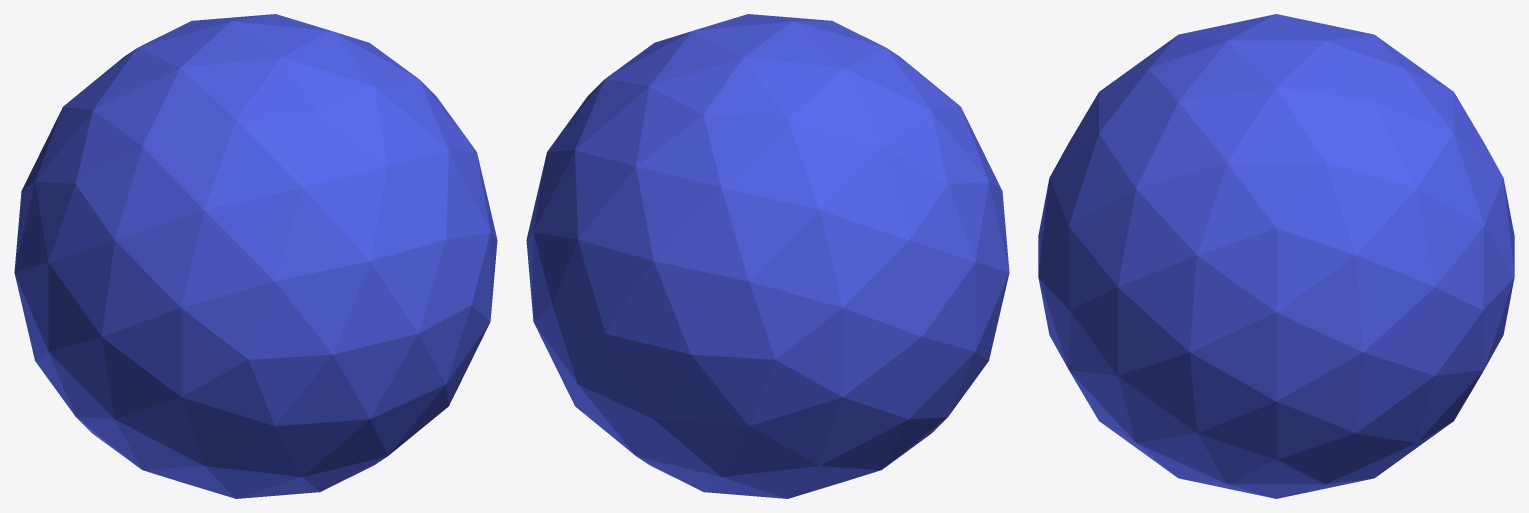
The model's file is planet.glb.
3 views of the same model, side by side, from view 1: azimuth 30°, elevation 25°; view 2: azimuth 150°, elevation 25°; view 3: azimuth 270°, elevation 25° (orthographic).
Parts seen in each view (by area): view 1: Bongo Planet faceted globe; view 2: Bongo Planet faceted globe; view 3: Bongo Planet faceted globe.
Part boxes in pixels (box(x1,y1,x2,y2)): Bongo Planet faceted globe: box(14, 14, 497, 498); Bongo Planet faceted globe: box(526, 14, 1009, 498); Bongo Planet faceted globe: box(1038, 14, 1514, 498).
Size of the model in its own units: 1.94 by 1.94 by 1.94.
